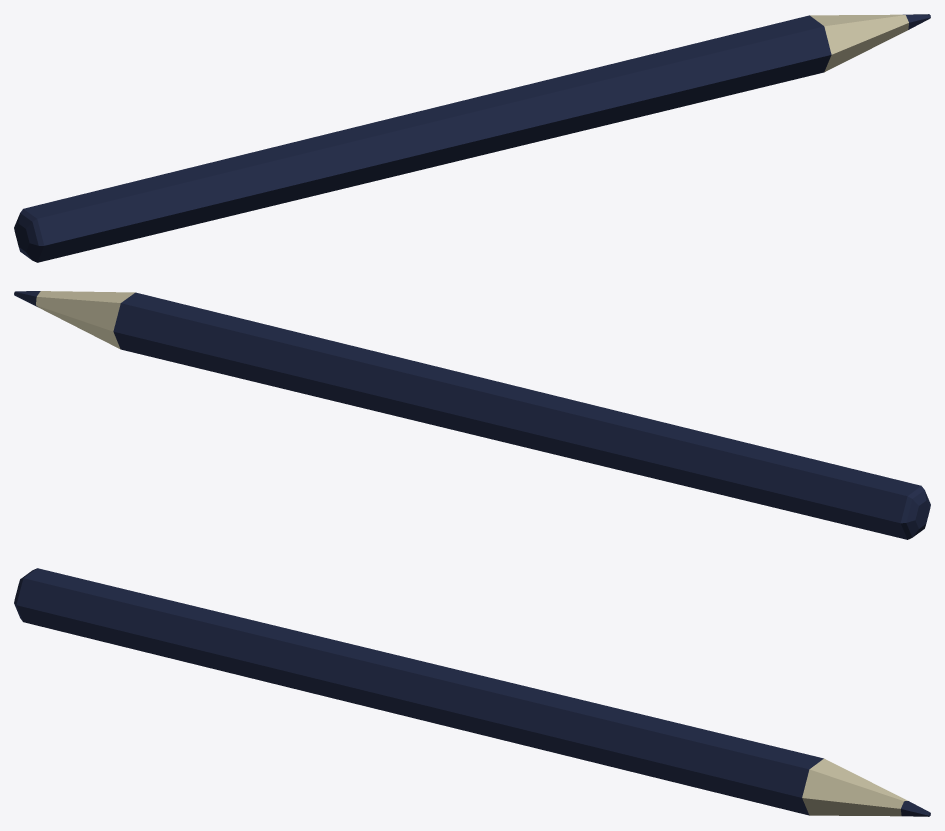
File: Prop_Pencil.fbx
The picture shows the model from 3 angles, top to bottom: view 1: azimuth 30°, elevation 25°; view 2: azimuth 150°, elevation 25°; view 3: azimuth 330°, elevation 25°; orthographic projection.
Parts seen in each view (by area): view 1: Prop_Pencil; view 2: Prop_Pencil; view 3: Prop_Pencil.
Boxes of the visible parts, left/top/right/bottom form: Prop_Pencil: left=14, top=14, right=930, bottom=262; Prop_Pencil: left=14, top=291, right=930, bottom=539; Prop_Pencil: left=14, top=568, right=930, bottom=816.
Size of the model in its own units: 1.4 by 24.81 by 1.21.
